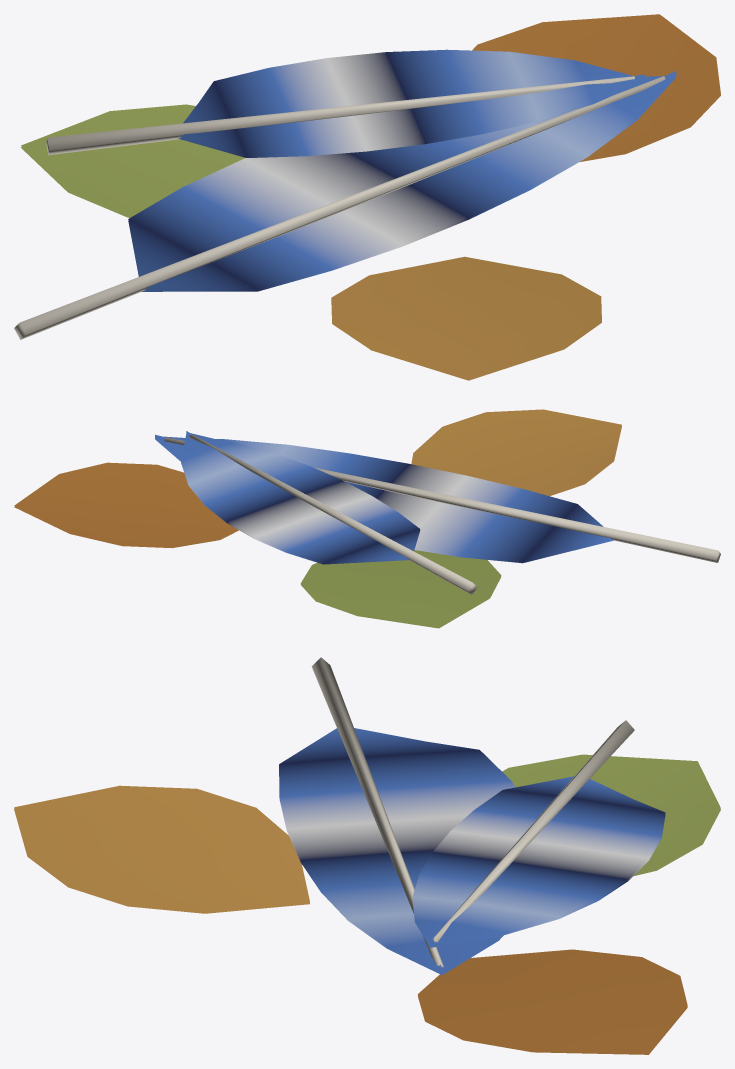
Rendered from col_jay_feather.glb.
The picture shows the model from 3 angles, top to bottom: view 1: azimuth 30°, elevation 25°; view 2: azimuth 150°, elevation 25°; view 3: azimuth 270°, elevation 25°; orthographic projection. The views are drawn at different scales.
Visible parts, largest first — view 1: col_jay_feather; view 2: col_jay_feather; view 3: col_jay_feather.
Boxes of the visible parts, x1,y1,x2,y2 form: col_jay_feather: (14,14,720,380); col_jay_feather: (14,409,720,628); col_jay_feather: (14,657,720,1054).
Size of what is drawn, in the model's own units: 0.4277 by 0.0404 by 0.3322.
